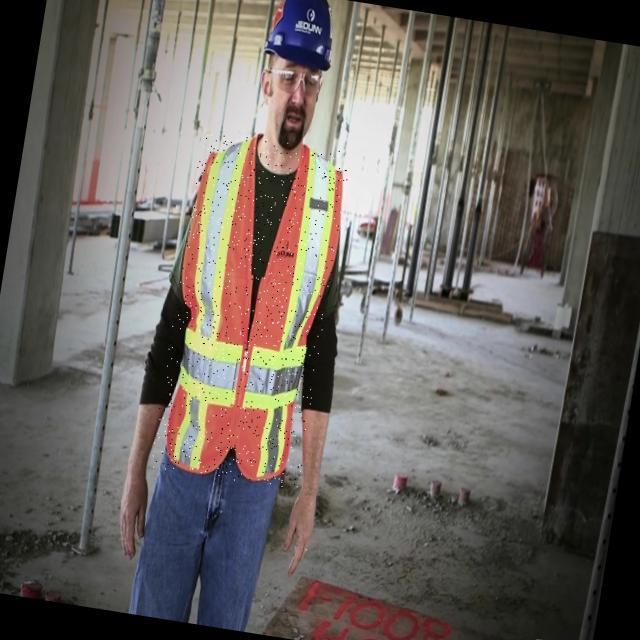helmet: (261, 0, 338, 80)
vest: (150, 129, 351, 491)
